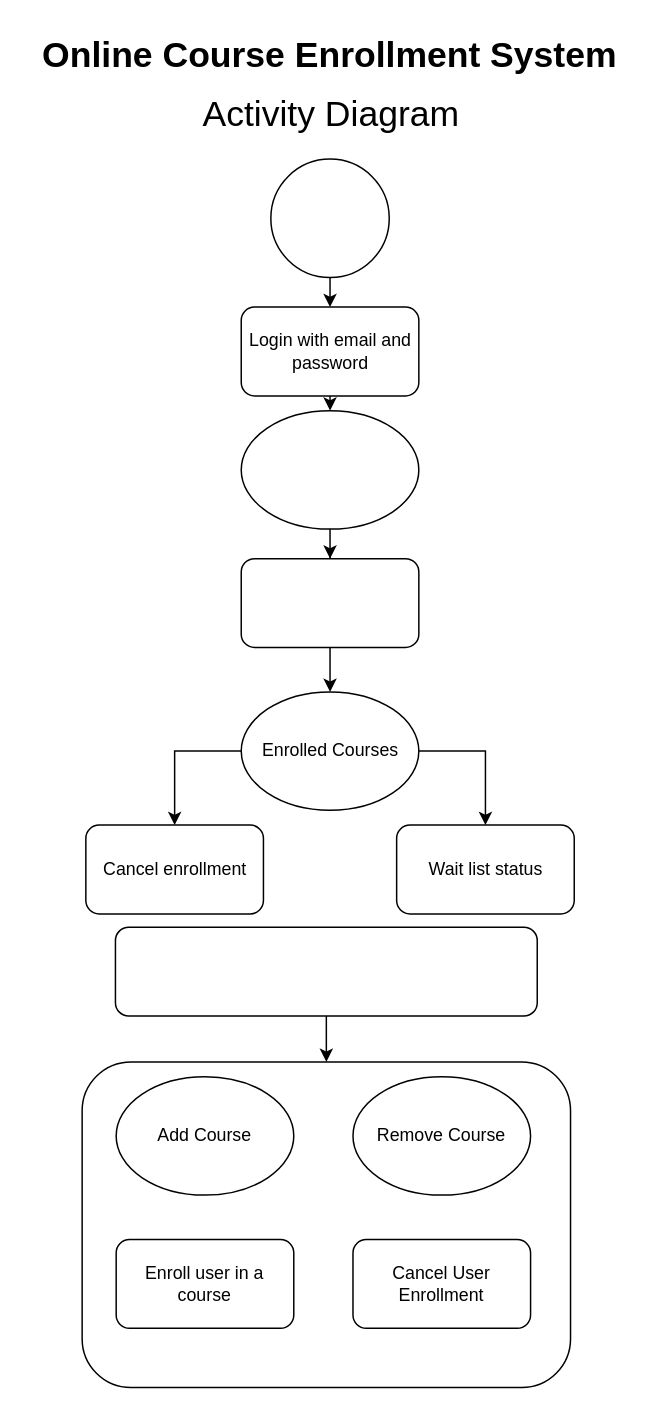
The diagram is 657 pixels wide and 1413 high, and some of its shapes have lost their labels. The shapes that lost their labels are listed below. From the top down, each one's centre as x and y in pixels, then its label:
At [329,218]: "User".
At [329,469]: "Dashboard / Profile".
At [329,602]: "Browse available courses and enroll".
At [325,971]: "Administrator Only Actions".
